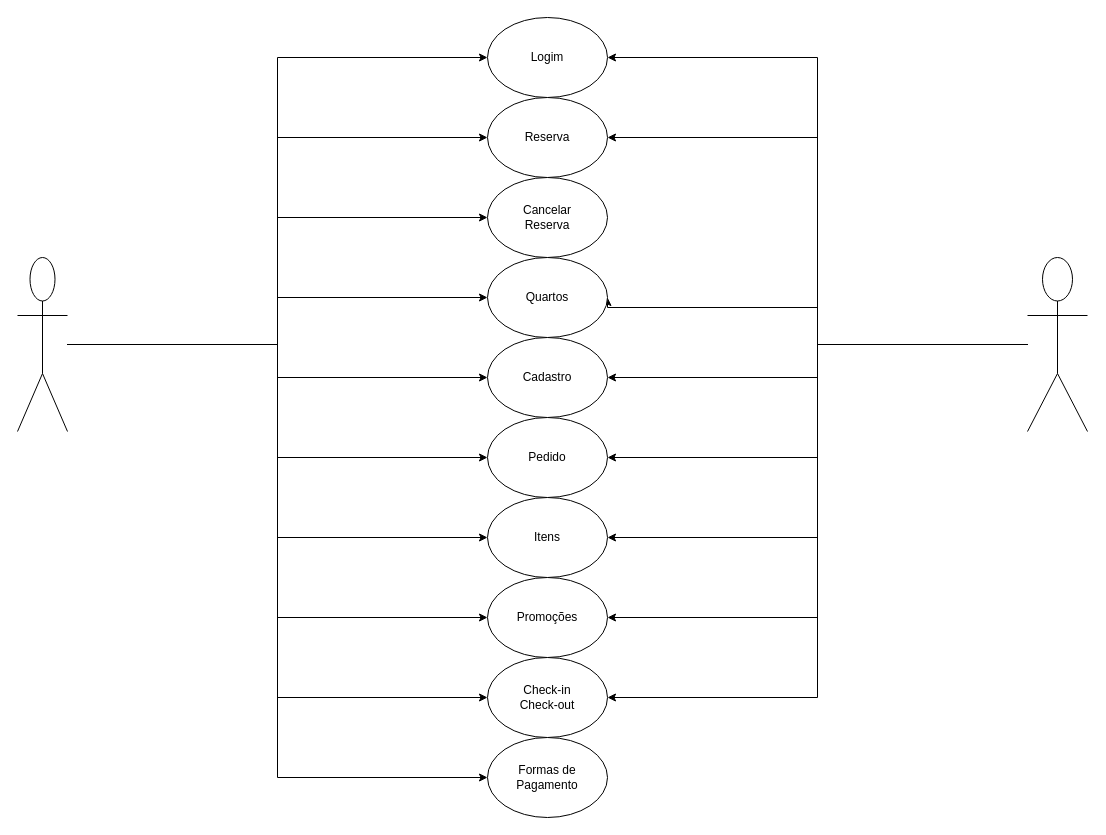
Some shapes in this 1106 by 835 pixel diagram are drawn without their labels. The shapes that lost their labels are listed below. From the top down, each one's box as (x1, y1, x2, y2) in pixels, then its label:
(16, 256, 68, 432): Cliente
(1026, 256, 1088, 432): Funcionario
